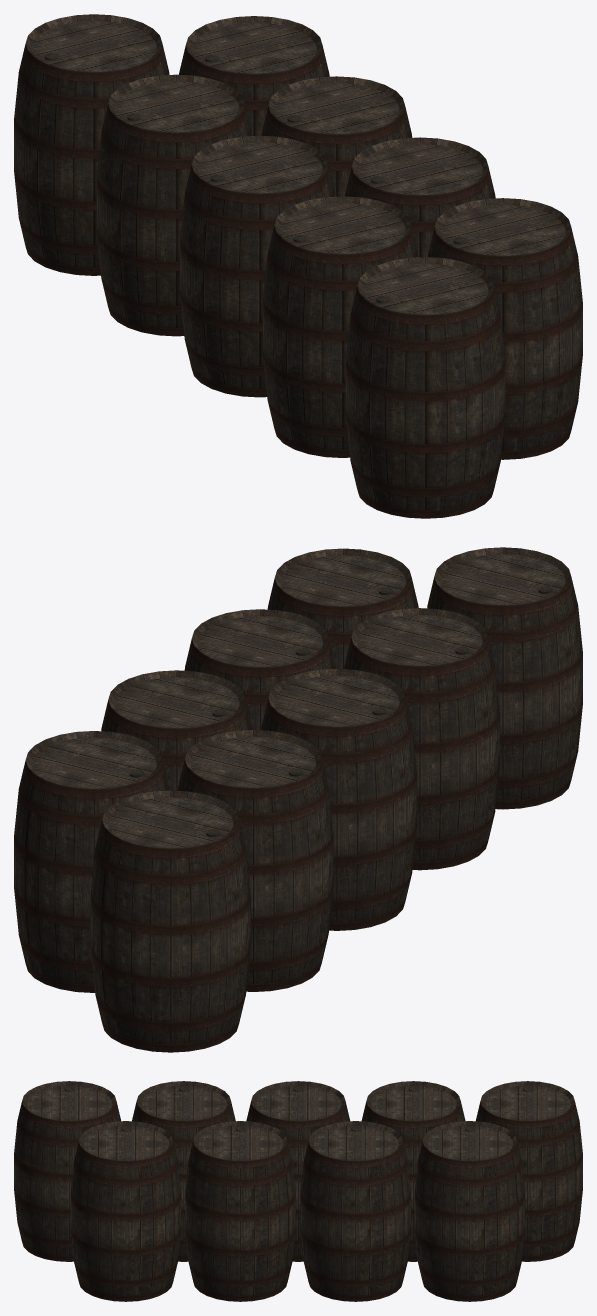
The model's file is barrel_cluster_03.DAE.
3 views of the same model, one above another, from view 1: azimuth 30°, elevation 25°; view 2: azimuth 150°, elevation 25°; view 3: azimuth 270°, elevation 25° (orthographic). The views are drawn at different scales.
Parts seen in each view (by area): view 1: Cylinder027; view 2: Cylinder027; view 3: Cylinder027.
Part boxes in pixels (x1,y1,x2,y2): Cylinder027: [14, 14, 582, 518]; Cylinder027: [14, 547, 582, 1052]; Cylinder027: [14, 1081, 582, 1301].
Size of what is drawn, in the model's own units: 1.52 by 4.23 by 1.16.
